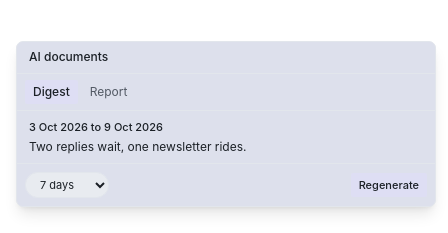
Test: generation › keeps the stored document showing under a failed regeneration
The image size is (448, 233).
Expected: the text "Two replies wait, one newsletter rides." is shown, [29, 139, 246, 154]
Click the button "Regenerate" at (389, 185), box [351, 173, 427, 197]
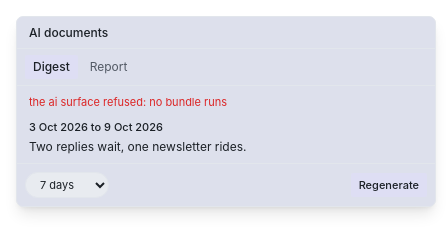
Expected: the text "Two replies wait, one newsletter rides." is shown, [29, 139, 246, 154]
Now the message reads "the ai surface refused: no bundle runs", box [29, 95, 227, 109]
